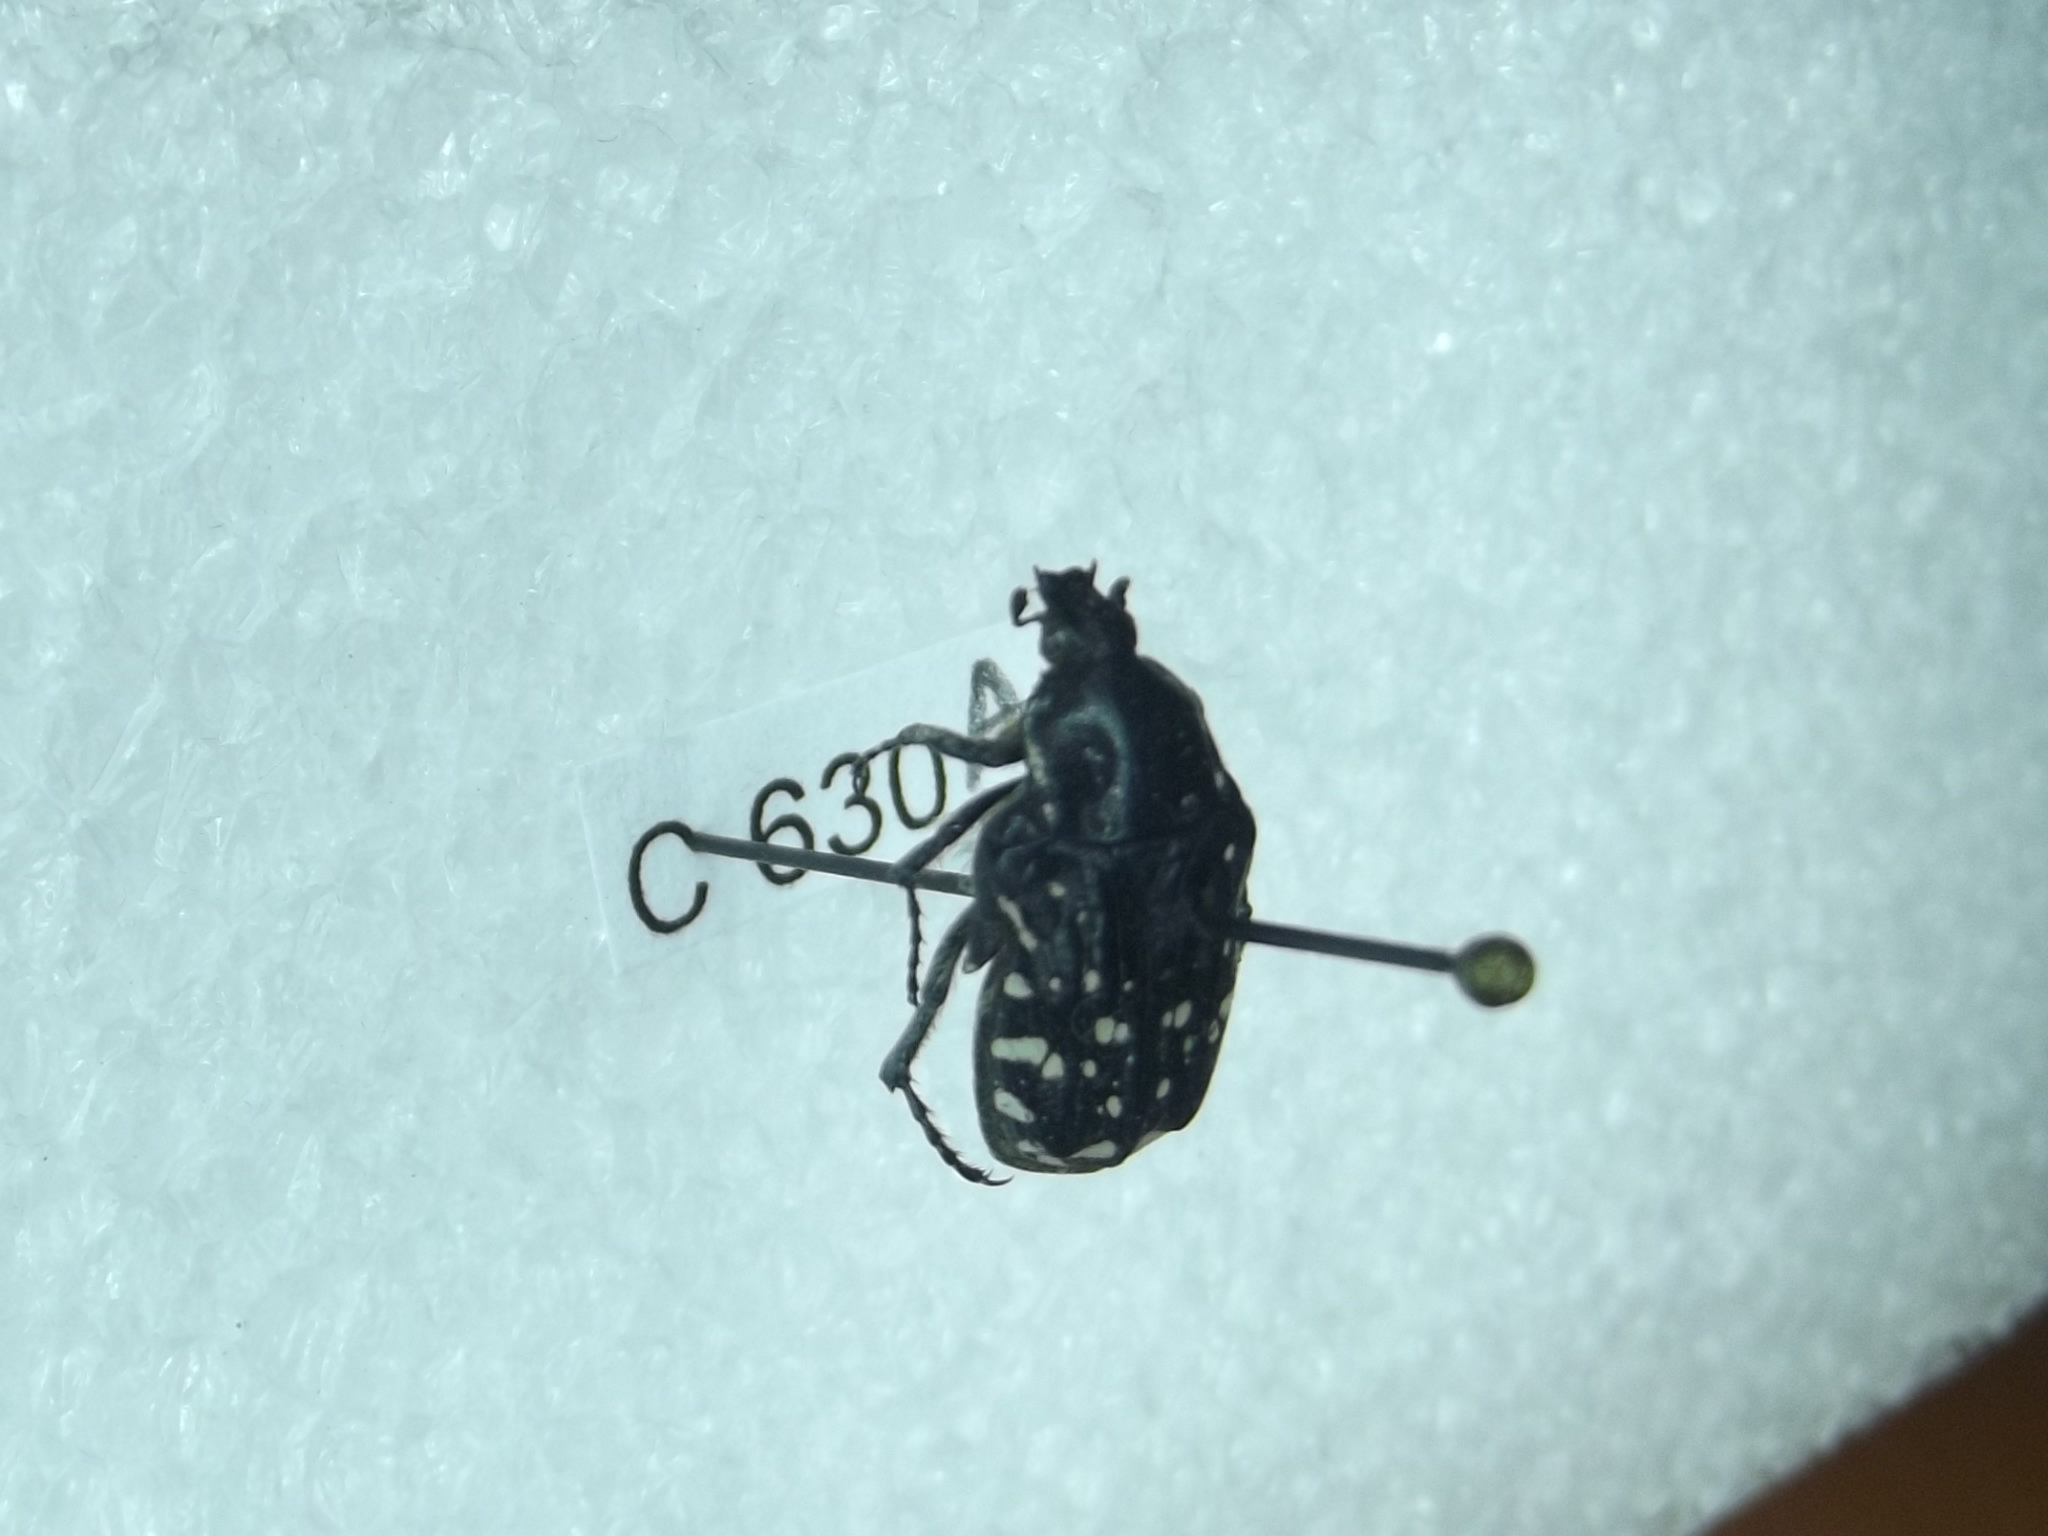Oxythyrea_albopicta: (818, 560, 1279, 1191)
